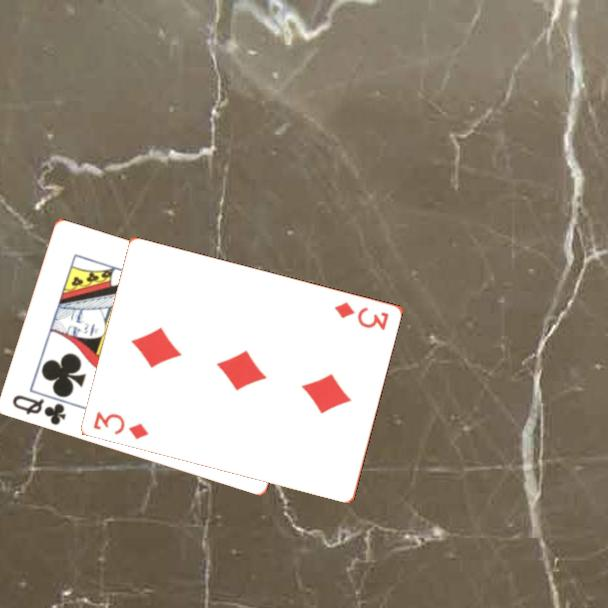c12: (9, 391, 69, 428)
d03: (331, 298, 392, 333), (90, 408, 152, 442)
